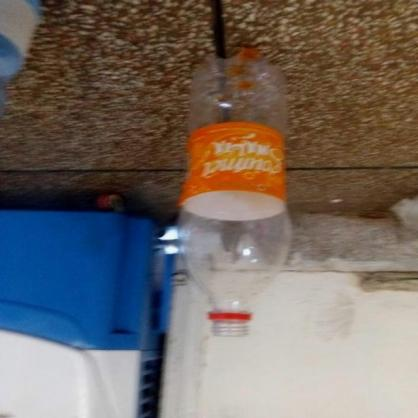bottle: (169, 41, 300, 346)
label: (183, 116, 292, 209)
